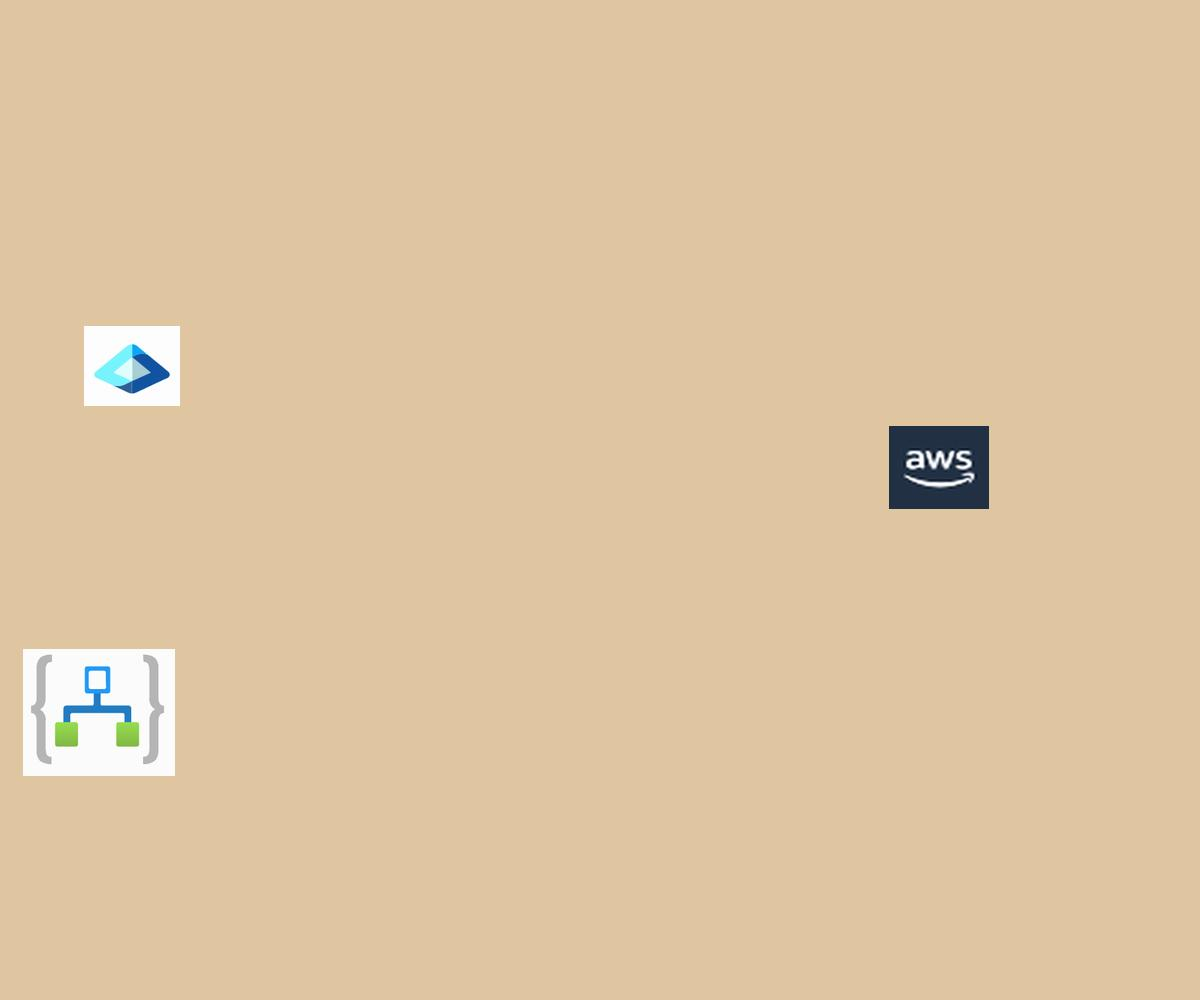AWS-Cloud-logo: (889, 426, 989, 509)
Azure_integration-204-Logic-Apps: (23, 649, 175, 776)
Azure_microsoft_entra: (84, 326, 180, 406)
